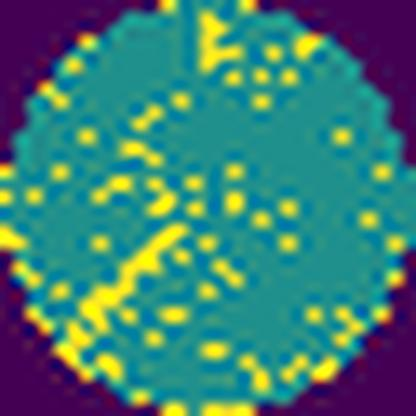Scratch: (61, 221, 194, 359)
